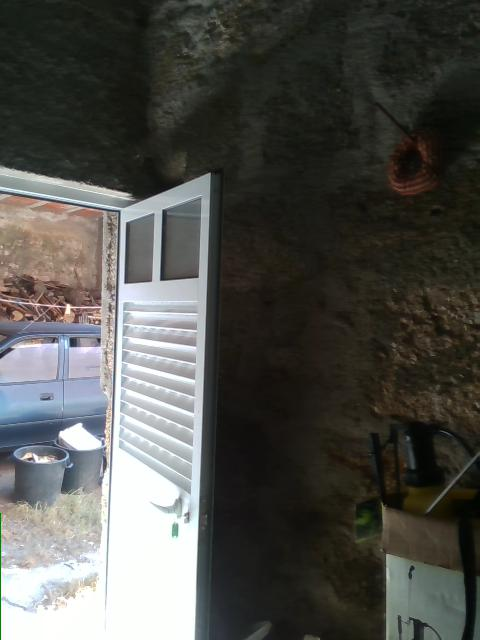door: (104, 172, 221, 639)
